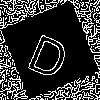D: (25, 25, 75, 81)
